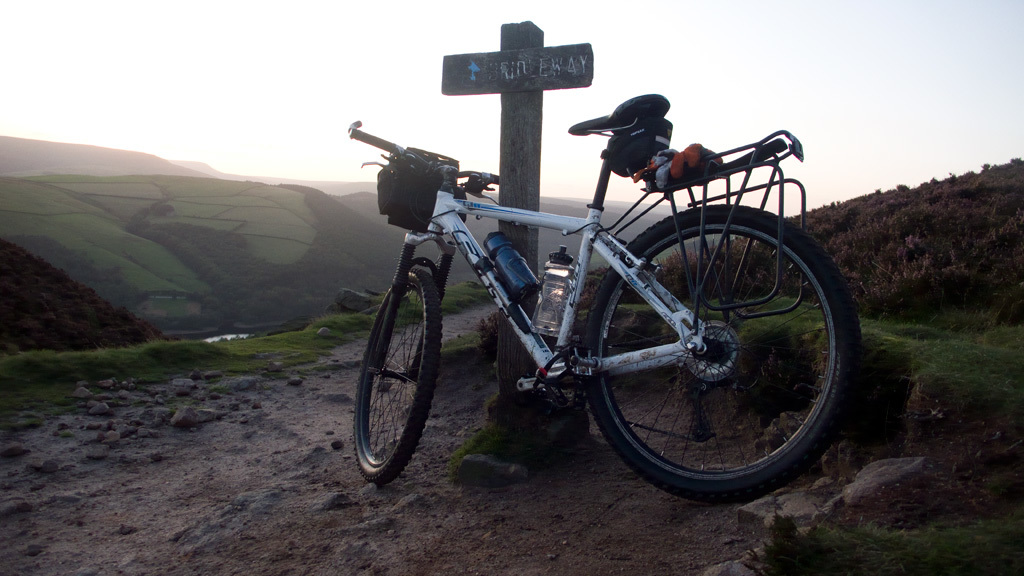Bike_away: (275, 123, 822, 521)
